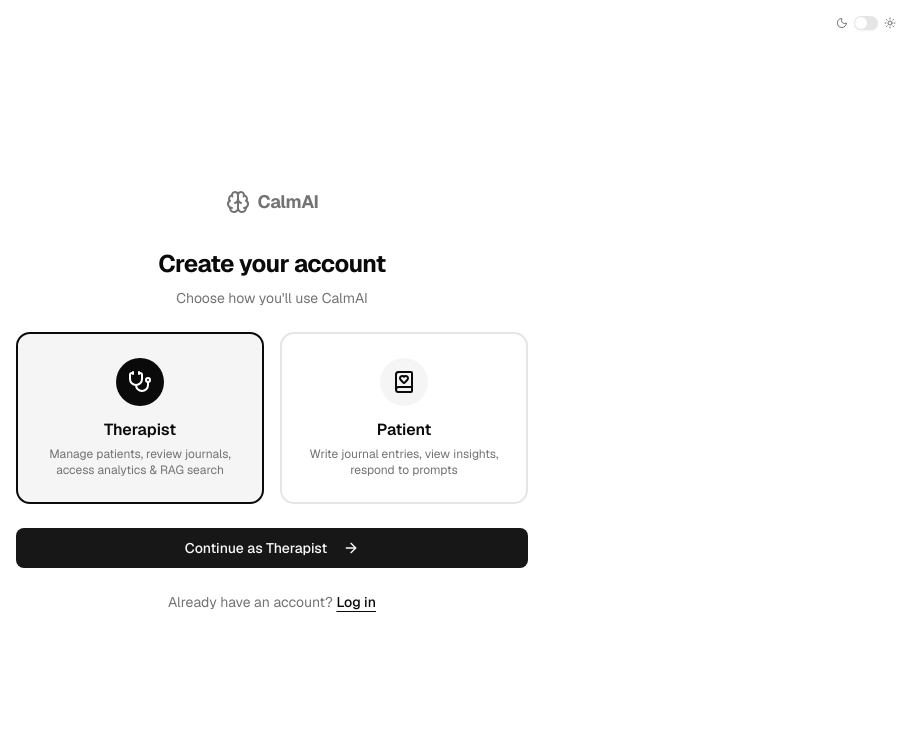
Scenario: Signup page › shows patient-specific fields in patient form
This screenshot has width=912, height=751.
Step 1. Click the text "Patient" → click(404, 430), box [377,419,431,440]
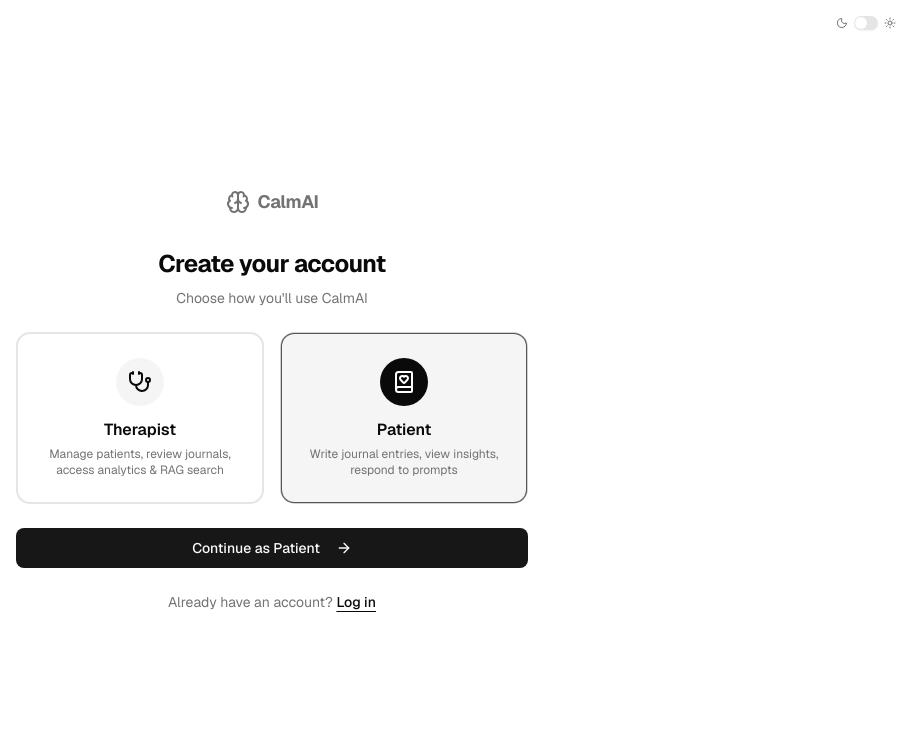
Step 2. Click the button "Continue as Patient" → click(272, 548), box [16,528,528,568]
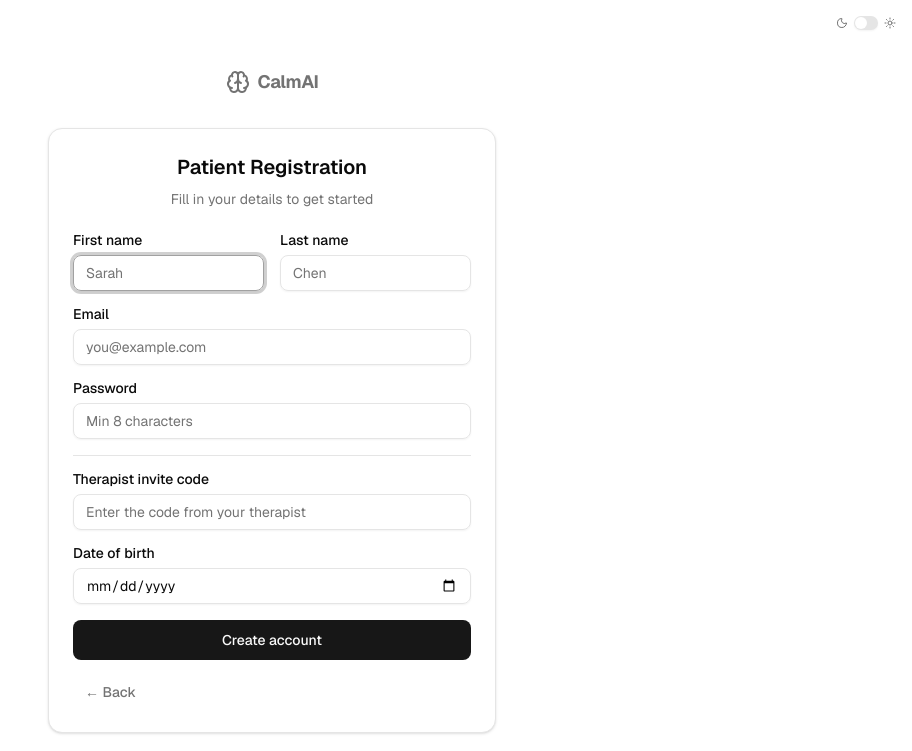
Now the text "Patient Registration" is shown, box [177,154,367,180]
Now the field labelled "Therapist invite code" is shown, box [73,494,471,530]
Now the date field labelled "Date of birth" is shown, box [73,568,471,604]
